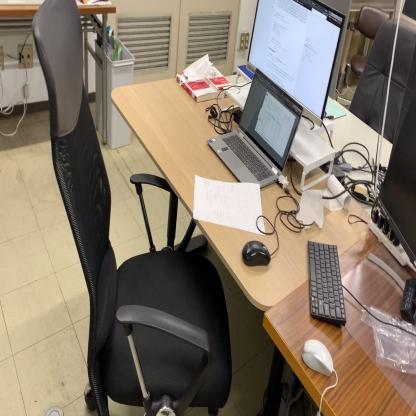chair: (31, 0, 231, 416)
